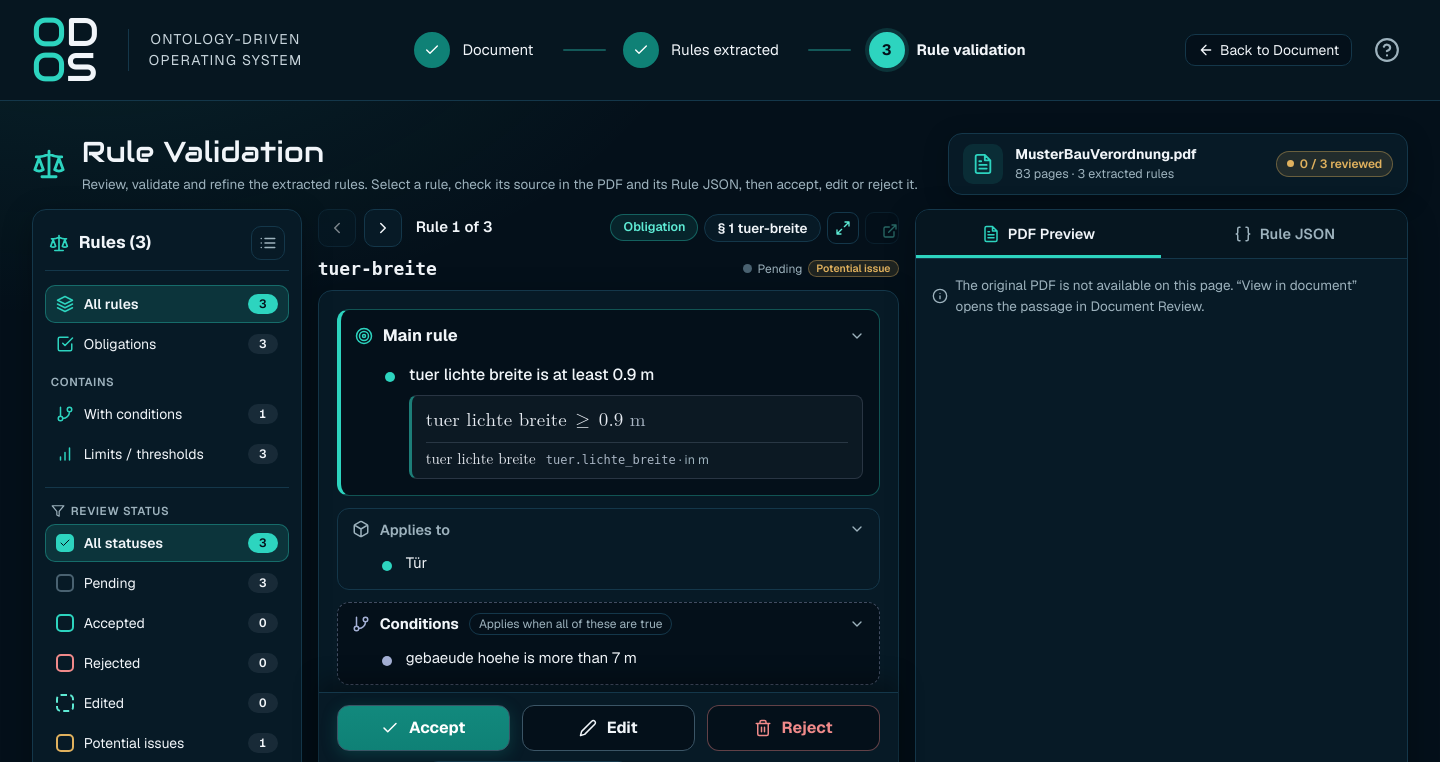
Test: with review storage › accepts a rule with the exact identifiers the backend gave, then moves on to the next open rule
The width and height of the screenshot is (1440, 762).
Click the button with class "rex-choice" showing "Accept": click(423, 728) [337, 705, 510, 751]
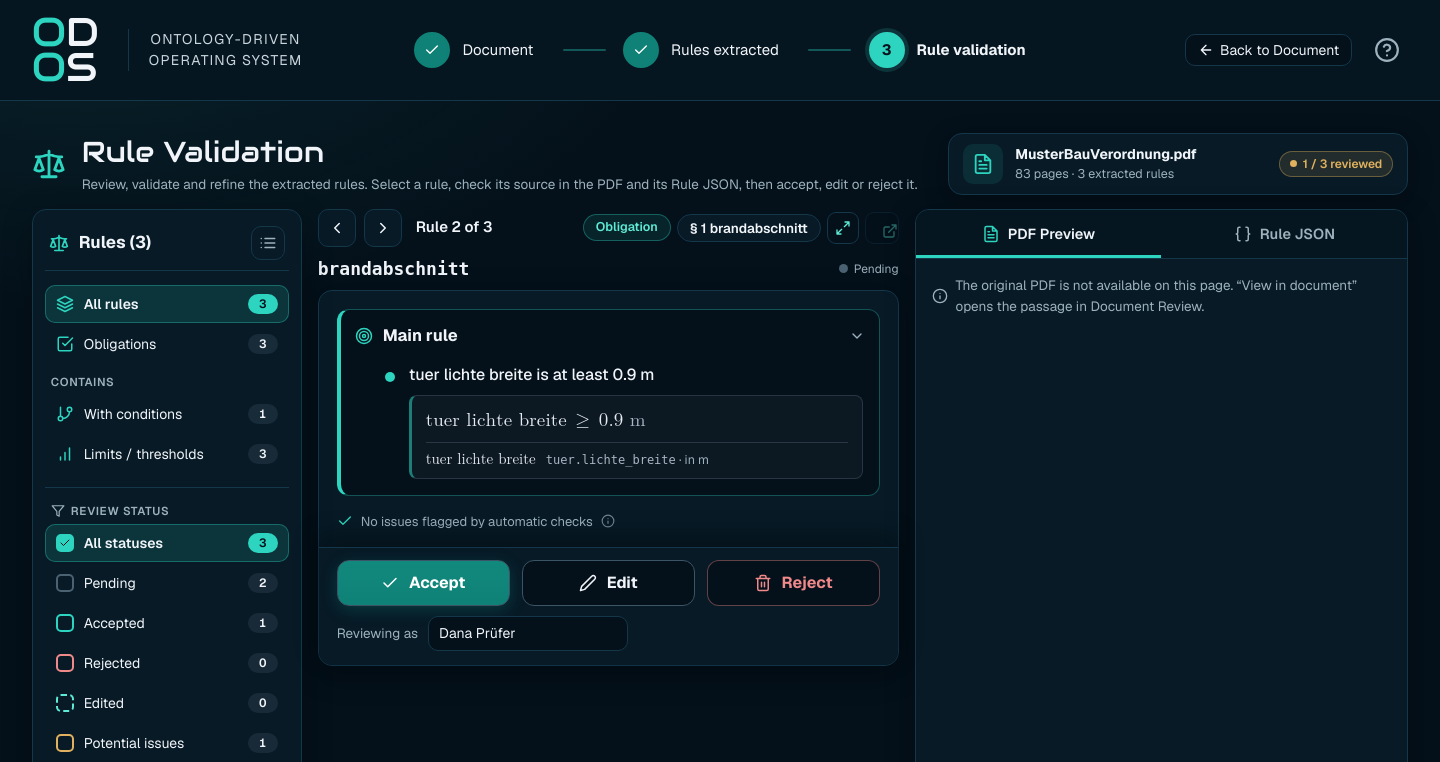
Click the button named "Previous rule": click(337, 228) [318, 209, 356, 247]
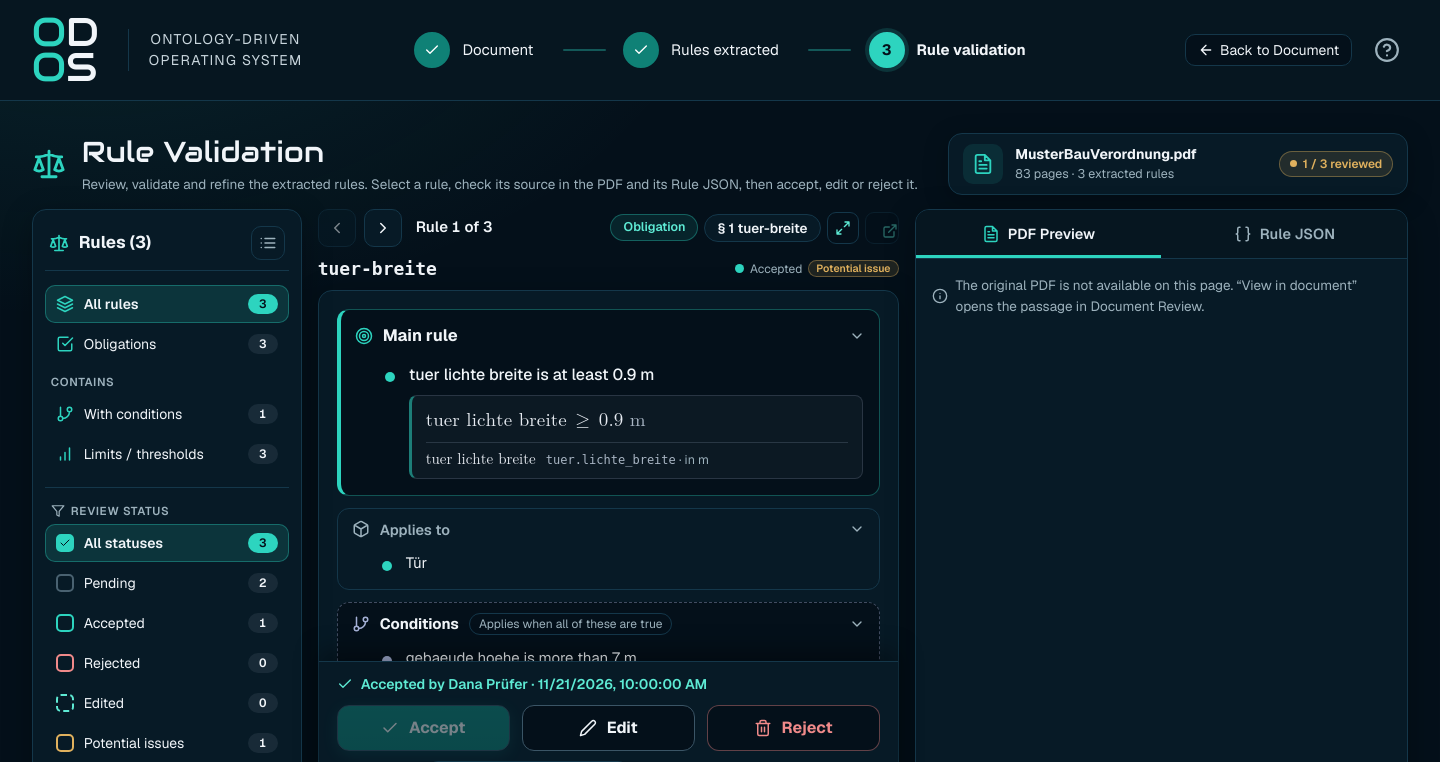
Expected: the message with class "rex-decided" shows "Accepted by Dana Prüfer", [361, 675, 707, 693]
Expected: the button with class "rex-choice" showing "Accept" is disabled, [337, 705, 510, 751]
